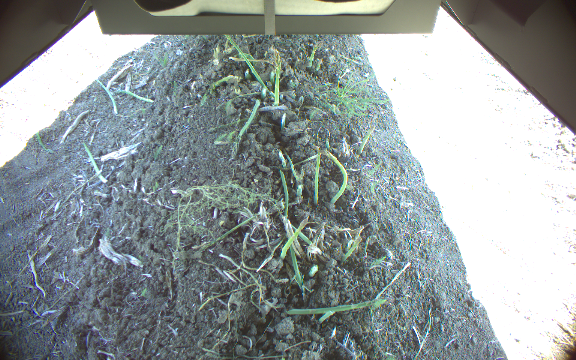aspa: (223, 35, 271, 95), (317, 147, 349, 205), (279, 214, 310, 261), (312, 149, 323, 206), (340, 237, 363, 262), (272, 51, 282, 106), (307, 42, 322, 63)
